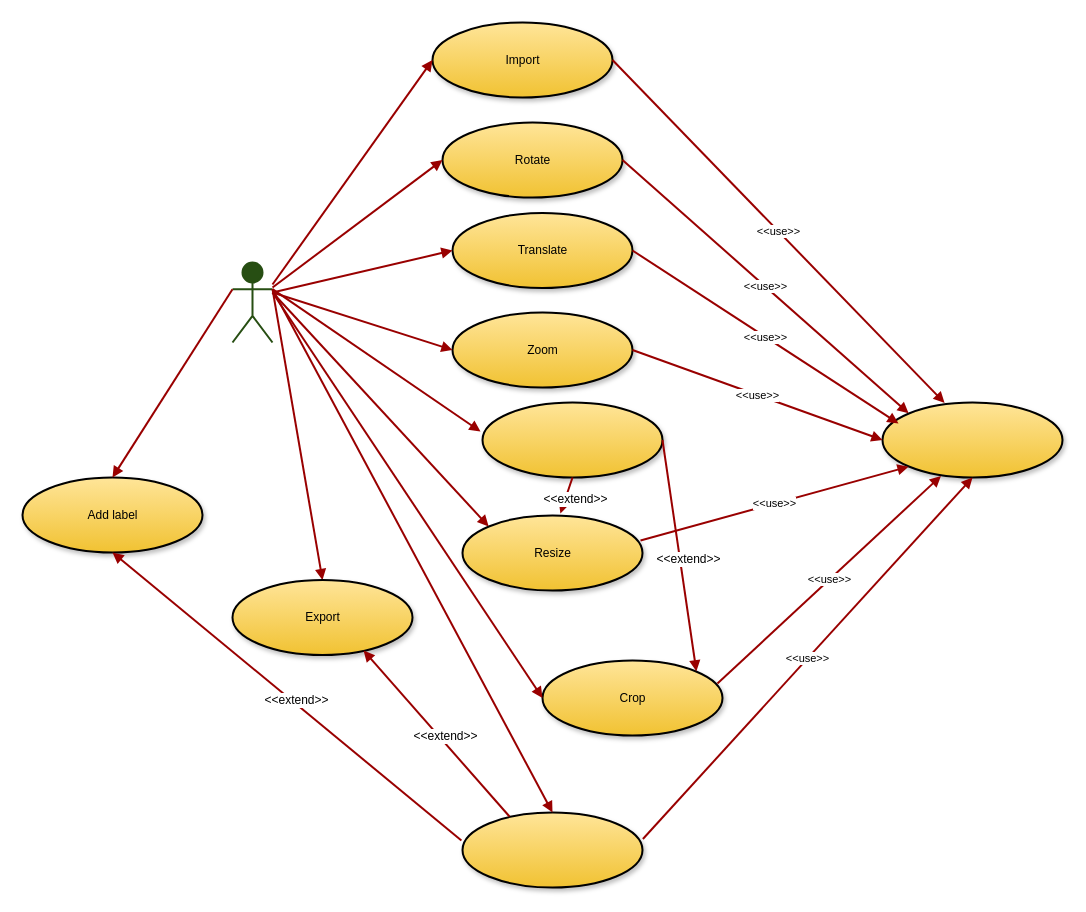
Image size: 1086x912. Some labels were removed from this diagram. The shapes that lost their labels are listed below. From the top down, each one's centre as x and y in pixels, then its label:
At pixel 252 302: "User".
At pixel 573 441: "Create boundary box".
At pixel 973 441: "Draw Image".
At pixel 553 851: "Create support".
